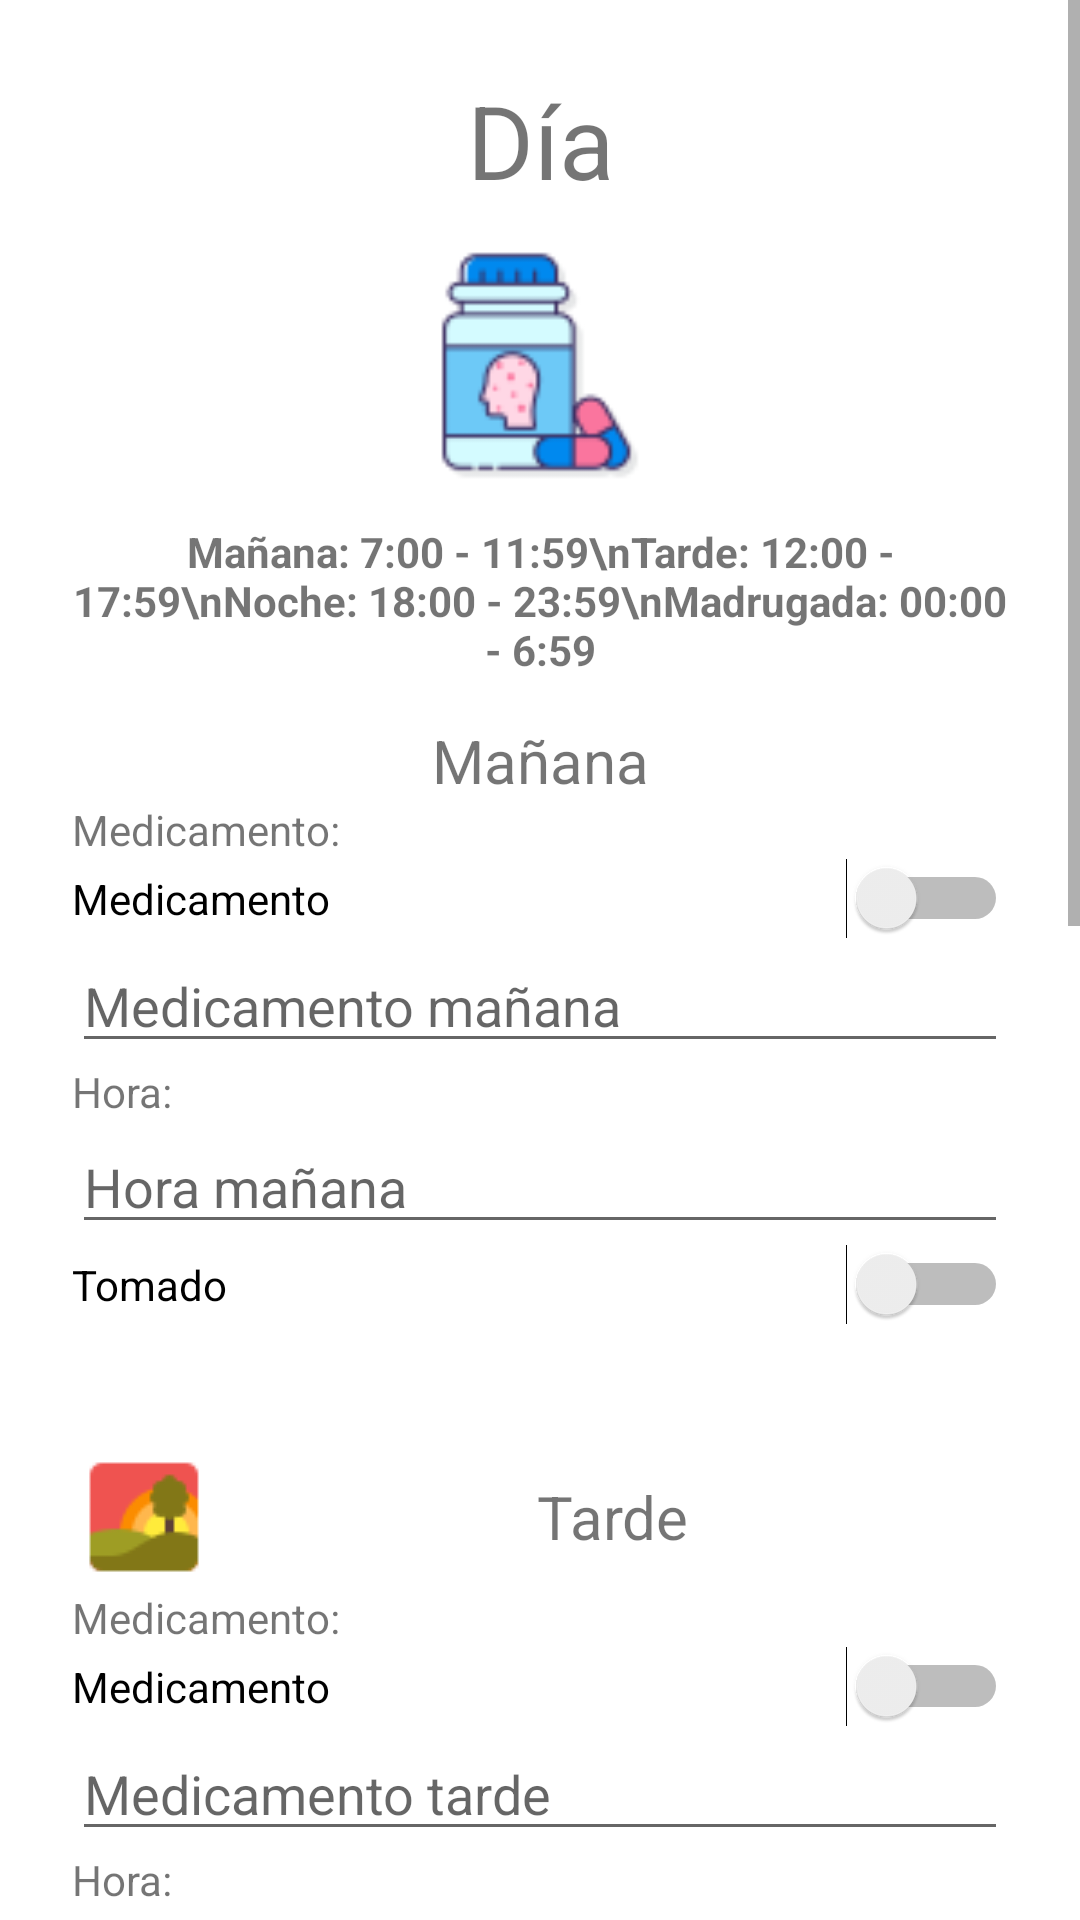

Where to tap for icons on this 1080px x 1920px app screen, as (x,y):
medication: (537,362)
